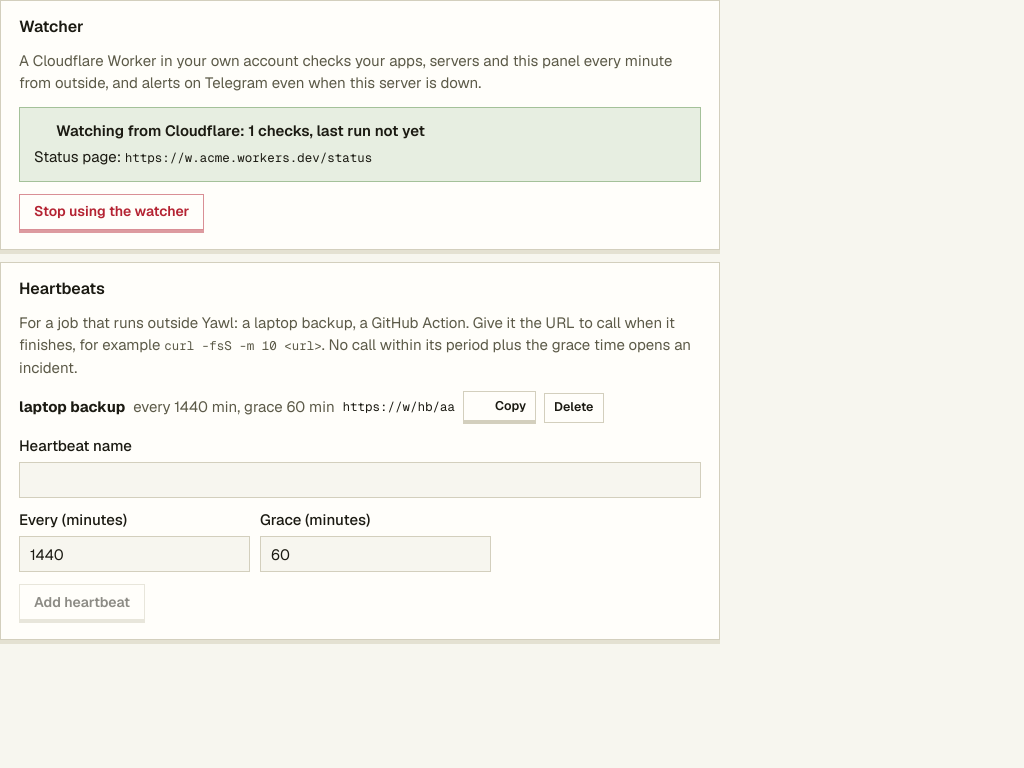
Test: Watcher › asks before it deletes a heartbeat
This screenshot has width=1024, height=768.
Later steps or results of the test are not shown.
Click the button with aria-label "Delete laptop backup" at (574, 408), box [544,393,604,423]
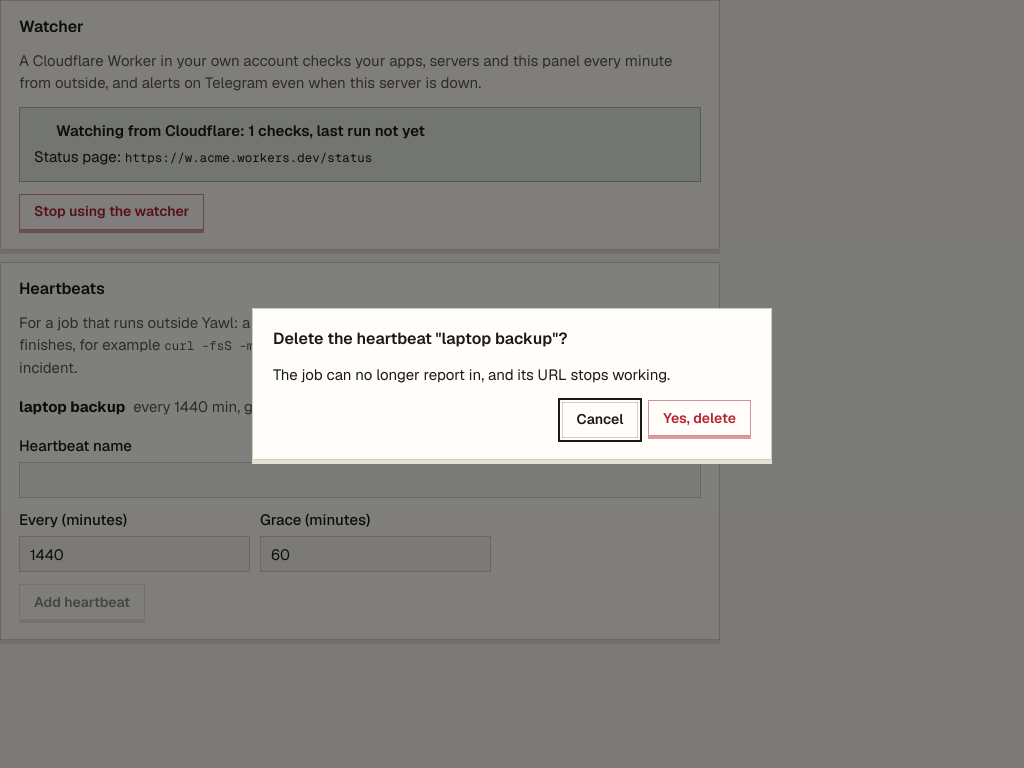
expect the heading "Delete the heartbeat \"laptop backup\"?" is shown: met, box [273,328,568,349]
